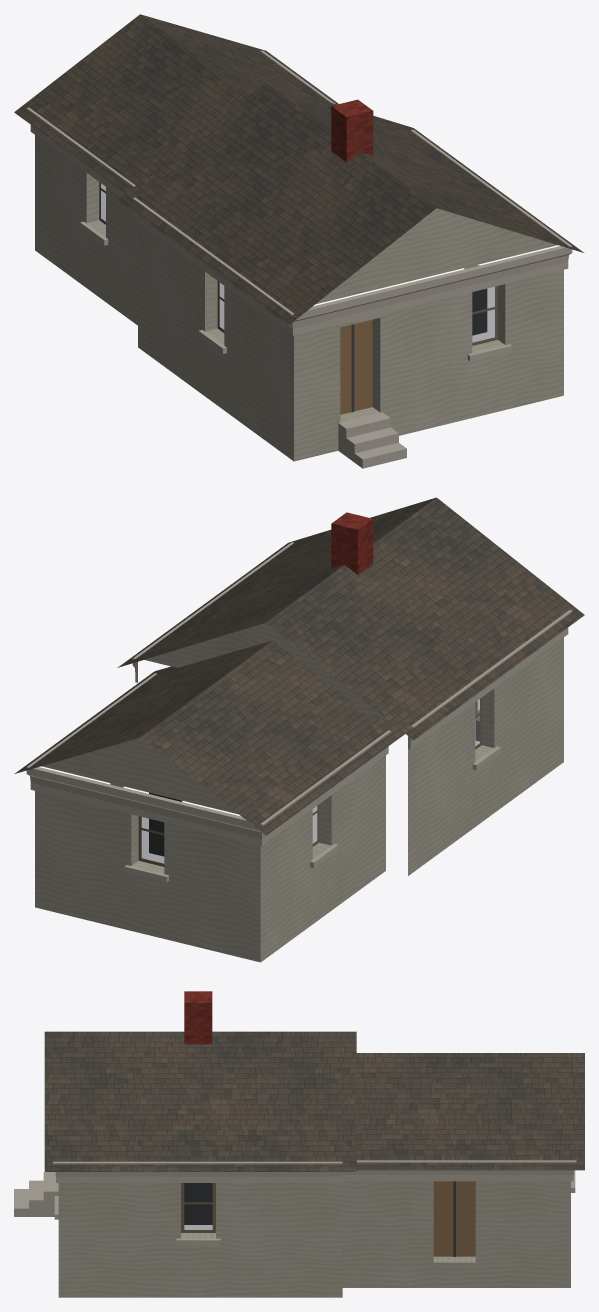
Rendered from forbes_cottage_1871__cottage_1871.glb.
3 renders of one model, top to bottom at view 1: azimuth 30°, elevation 25°; view 2: azimuth 150°, elevation 25°; view 3: azimuth 270°, elevation 25°, orthographic. The views are drawn at different scales.
Visible parts, largest first — view 1: forbes_cottage_1871__cottage_1871; view 2: forbes_cottage_1871__cottage_1871; view 3: forbes_cottage_1871__cottage_1871.
Boxes of the visible parts, <box> form: forbes_cottage_1871__cottage_1871: <box>14,14,583,468</box>; forbes_cottage_1871__cottage_1871: <box>14,497,584,962</box>; forbes_cottage_1871__cottage_1871: <box>14,991,584,1297</box>.
Size of the model in its own units: 6.7 by 5.7 by 12.26.
9 materials, 3 textured.
